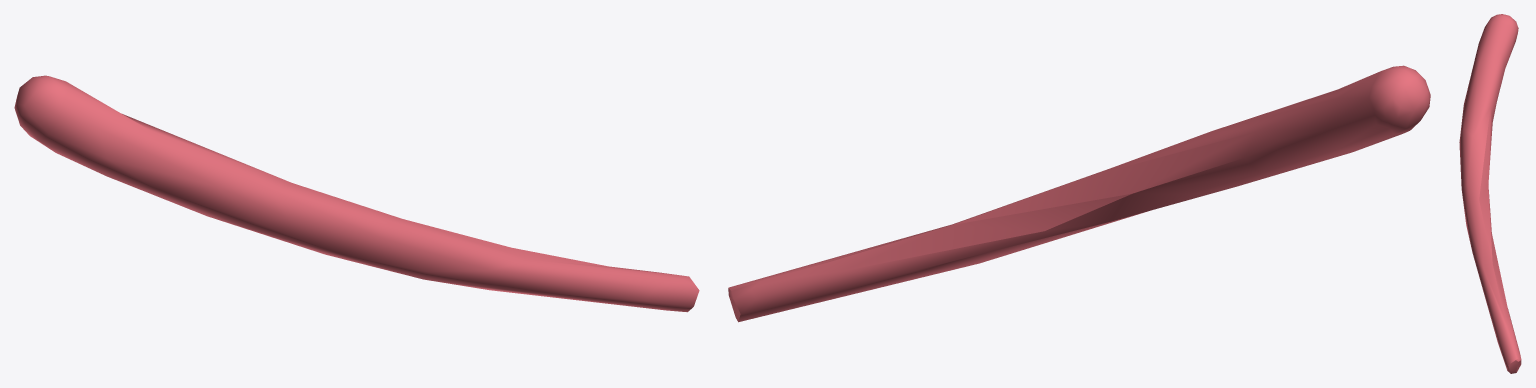
File: fma13290_fj6022.glb
3 views of the same model, side by side, from view 1: azimuth 30°, elevation 25°; view 2: azimuth 150°, elevation 25°; view 3: azimuth 270°, elevation 25° (orthographic). The views are drawn at different scales.
Parts seen in each view (by area): view 1: FMA13290_FJ6022; view 2: FMA13290_FJ6022; view 3: FMA13290_FJ6022.
Boxes of the visible parts, x1,y1,x2,y2 form: FMA13290_FJ6022: (14,75,699,312); FMA13290_FJ6022: (728,65,1430,322); FMA13290_FJ6022: (1459,14,1521,373).
Bounding box in the file's own units: 0.0443 × 0.0246 × 0.00693.
